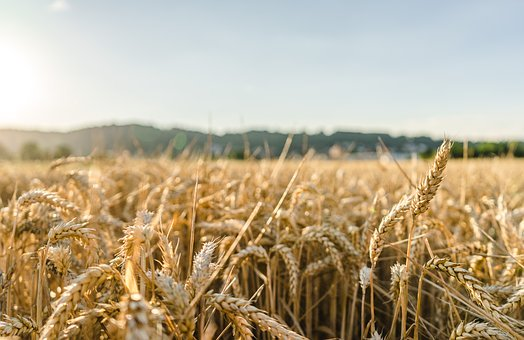field: (2, 155, 524, 339)
sky: (1, 3, 524, 137)
